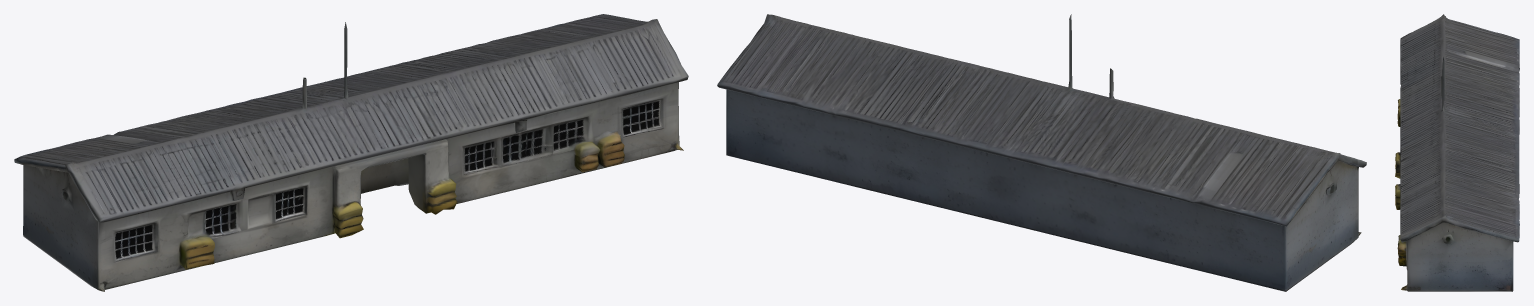
The model's file is barracks.glb.
3 views of the same model, side by side, from view 1: azimuth 30°, elevation 25°; view 2: azimuth 150°, elevation 25°; view 3: azimuth 270°, elevation 25° (orthographic). The views are drawn at different scales.
Parts seen in each view (by area): view 1: body; view 2: body; view 3: body.
Boxes of the visible parts, <box> form: body: <box>14,14,688,291</box>; body: <box>717,14,1366,291</box>; body: <box>1395,14,1519,291</box>.
Size of the model in its own units: 12.06 by 3.6 by 3.14.
Materials: 1 (1 with a texture image).
